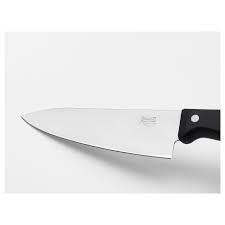Knife: (19, 106, 220, 159)
